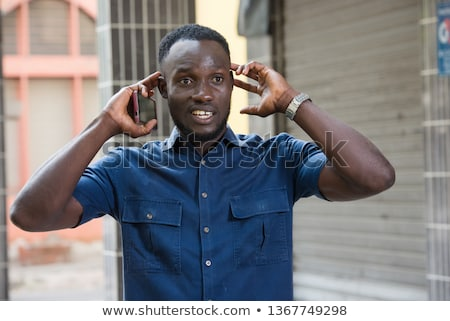phone: (119, 79, 161, 136)
talk: (109, 63, 235, 145)
